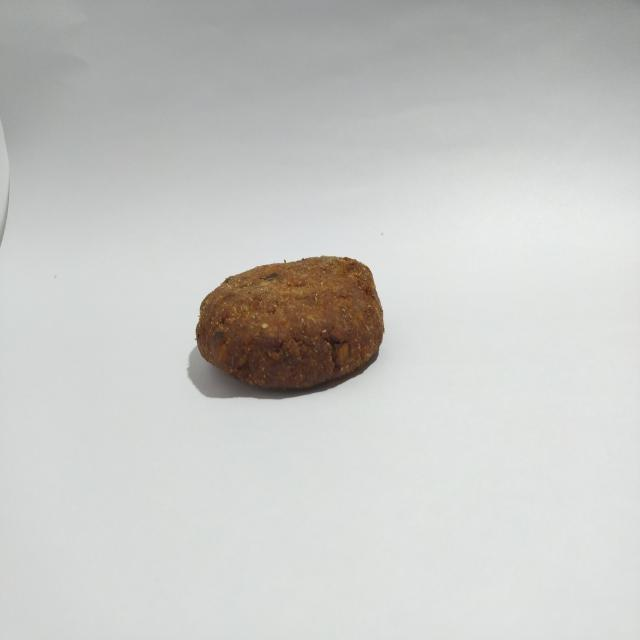Food: (187, 239, 389, 399)
